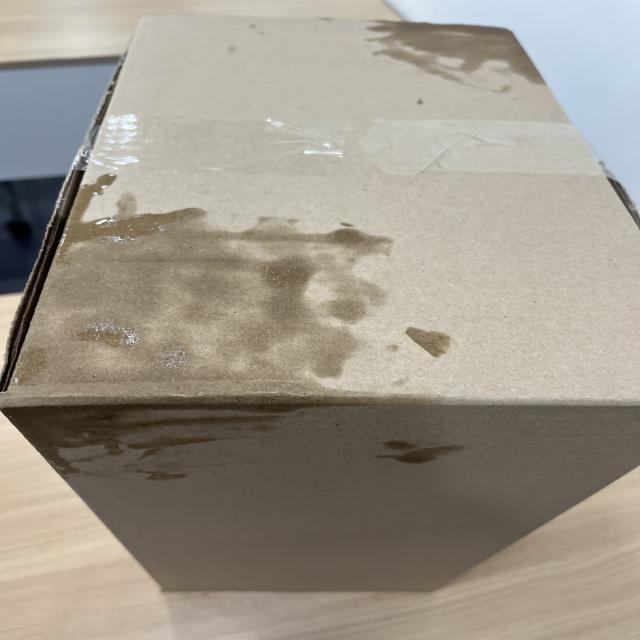wet: (30, 195, 380, 466), (380, 18, 549, 96)
